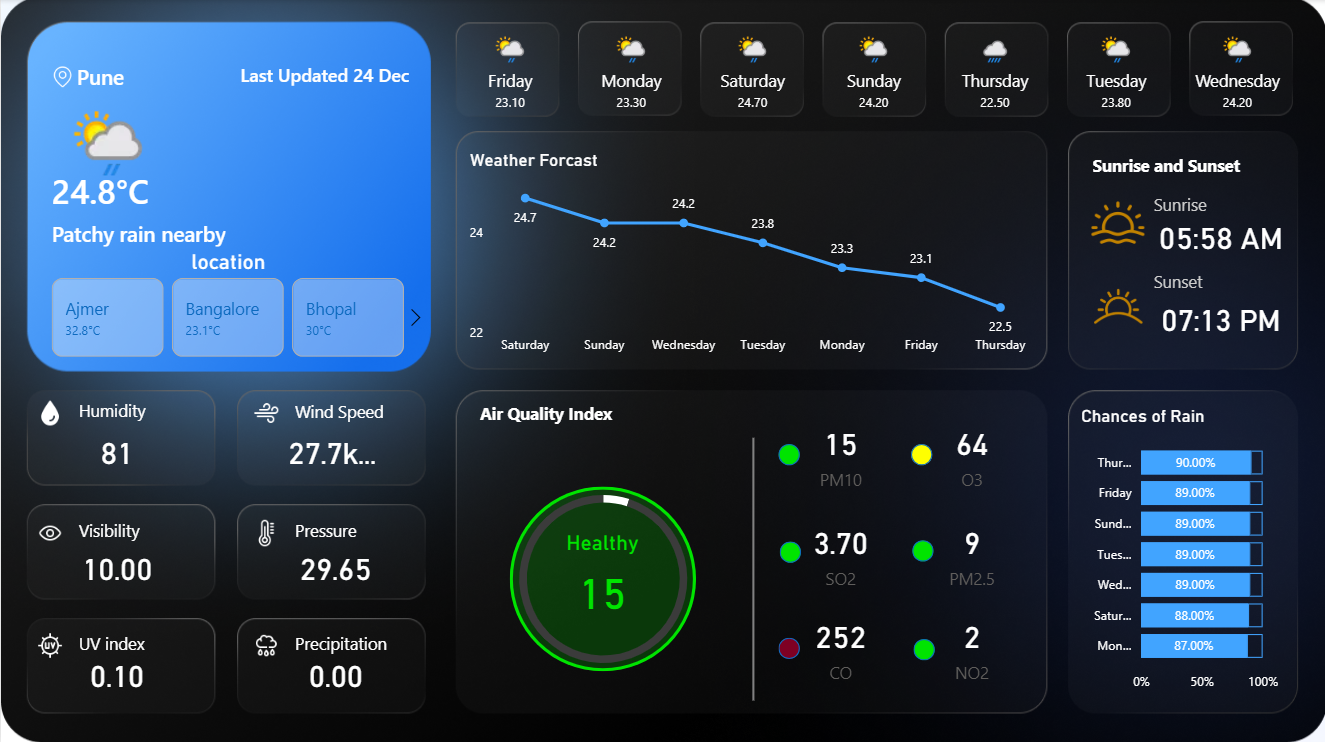

Layout of this report page (visuals, bound fields, positions):
{"tool":"powerbi","page":{"name":"Duplicate of Page 1","canvas":[1280,720],"ordinal":1},"visuals":[{"type":"shape","box":[491.3,470.7,179.8,178.4],"z":0},{"type":"donutChart","fields":{"Y":["Sum(Current.current.air_quality.pm10)","Measure.alert"]},"box":[472,454.2,219.6,212.7],"z":1000},{"type":"advancedSlicerVisual","title":"location","fields":{"Values":["location.location.name"],"Label":["Measure.curr_temp_c"]},"box":[24.7,241.5,391.1,109.8],"z":2000},{"type":"cardVisual","fields":{"Data":["Min(Current.current.condition.icon)"]},"box":[0,13.3,208.3,168.3],"z":3000},{"type":"cardVisual","fields":{"Data":["Measure.curr_temp_c"]},"box":[0,144.5,205.3,77.5],"z":4000},{"type":"cardVisual","fields":{"Data":["Min(Current.current.condition.text)"]},"box":[0,182.5,415.1,74.5],"z":5000},{"type":"cardVisual","fields":{"Data":["Min(Current.location.name)"]},"box":[24.3,30.4,214.4,74.5],"z":6000},{"type":"cardVisual","fields":{"Data":["Measure.date"]},"box":[181.7,30,265,75],"z":7000},{"type":"image","box":[50,57.9,20,35],"z":8000},{"type":"image","box":[35,381.7,25,36.7],"z":9000},{"type":"textbox","box":[70,381.7,85,39.2],"z":10000},{"type":"image","box":[35,497.5,25,36.7],"z":11000},{"type":"textbox","box":[70,497.5,85,39.2],"z":12000},{"type":"image","box":[35,605.8,25,36.7],"z":13000},{"type":"textbox","box":[70,605.8,85,39.2],"z":14000},{"type":"image","box":[244.2,381.7,25,36.7],"z":15000},{"type":"image","box":[244.2,497.5,25,36.7],"z":16000},{"type":"image","box":[244.2,605.8,25,36.7],"z":17000},{"type":"textbox","box":[278.3,382.5,117.5,39.2],"z":18000},{"type":"textbox","box":[278.3,497.5,85,39.2],"z":19000},{"type":"textbox","box":[278.3,605.8,117.5,39.2],"z":20000},{"type":"card","fields":{"Values":["Sum(Current.current.humidity)"]},"box":[77.5,411.7,70,51.7],"z":21000},{"type":"card","fields":{"Values":["Measure.wind"]},"box":[270.8,411.7,99.2,51.7],"z":22000},{"type":"card","fields":{"Values":["Sum(Current.current.pressure_in)"]},"box":[274.2,523.3,99.2,51.7],"z":23000},{"type":"card","fields":{"Values":["Sum(Current.current.vis_km)"]},"box":[62.5,523.3,99.2,51.7],"z":24000},{"type":"card","fields":{"Values":["Sum(Current.current.uv)"]},"box":[62.5,625.8,99.2,51.7],"z":25000},{"type":"card","fields":{"Values":["Sum(Current.current.precip_in)"]},"box":[274.2,625.8,99.2,51.7],"z":26000},{"type":"advancedSlicerVisual","fields":{"Values":["Forcast_Day.Day_Formated"]},"box":[431.4,25.7,827.1,100],"z":27000},{"type":"lineChart","title":"Weather Forcast","fields":{"Category":["Forcast_Day.Day_Formated"],"Y":["Measure.avgtem"]},"box":[447.1,144.3,552.9,207.1],"z":28000},{"type":"textbox","box":[1048.6,144.3,210,37.1],"z":29000},{"type":"textbox","box":[1107.4,182.5,118,39.8],"z":30000},{"type":"card","fields":{"Values":["Min(Forcast_Day.sunrise_date)"]},"box":[1107.4,204.5,140,52.1],"z":31000},{"type":"card","fields":{"Values":["Min(Forcast_Day.sunset_date)"]},"box":[1107.4,282.7,140,52.1],"z":32000},{"type":"textbox","box":[1107.4,256.6,118,39.8],"z":33000},{"type":"hundredPercentStackedBarChart","title":"Chances of Rain","fields":{"Category":["Forcast_Day.Day_Formated"],"Y":["Sum(Forcast_Day.forecast.forecastday.day.daily_chance_of_rain)","Measure.left_value_rain"]},"box":[1037.4,392.5,200.3,285.4],"z":34000},{"type":"card","fields":{"Values":["Sum(Current.current.air_quality.o3)"]},"box":[887.8,402.1,98.8,75.5],"z":35000},{"type":"card","fields":{"Values":["Sum(Current.current.air_quality.pm2_5)"]},"box":[887.8,496.7,98.8,75.5],"z":36000},{"type":"card","fields":{"Values":["Sum(Current.current.air_quality.no2)"]},"box":[887.8,587.3,98.8,75.5],"z":37000},{"type":"card","fields":{"Values":["Sum(Current.current.air_quality.pm10)"]},"box":[761.6,402.1,98.8,75.5],"z":38000},{"type":"card","fields":{"Values":["Sum(Current.current.air_quality.so2)"]},"box":[761.6,496.7,98.8,75.5],"z":39000},{"type":"card","fields":{"Values":["Sum(Current.current.air_quality.co)"]},"box":[761.6,587.3,98.8,75.5],"z":40000},{"type":"textbox","box":[456.9,384.2,209.9,38.4],"z":41000},{"type":"shape","box":[750.6,429.5,20.6,20.6],"z":42000},{"type":"shape","box":[752,524.2,20.6,20.6],"z":43000},{"type":"shape","box":[750.6,616.1,20.6,20.6],"z":44000},{"type":"shape","box":[878.2,429.5,20.6,20.6],"z":45000},{"type":"shape","box":[879.6,522.8,20.6,20.6],"z":46000},{"type":"shape","box":[881,617.5,20.6,20.6],"z":47000},{"type":"shape","box":[666.9,424,118,253.9],"z":48000},{"type":"card","fields":{"Values":["Sum(Current.current.air_quality.pm10)"]},"box":[522.8,513.2,116.6,91.9],"z":49000},{"type":"image","box":[1048.4,190.6,59.1,50.7],"z":50000},{"type":"image","box":[1044.8,265.4,67.6,62.7],"z":51000}]}

Visuals, with their boxes in screenshot pixels (x1, y1, x2, y2), scaled from the page's 1280x720 canvas onto the 1325x742 screenshot:
shape: (509,485,695,669)
donutChart - Sum(Current.current.air_quality.pm10) x Measure.alert: (489,468,716,687)
"location" advancedSlicerVisual: (26,249,430,362)
cardVisual - Min(Current.current.condition.icon): (0,14,216,187)
cardVisual - Measure.curr_temp_c: (0,149,213,229)
cardVisual - Min(Current.current.condition.text): (0,188,430,265)
cardVisual - Min(Current.location.name): (25,31,247,108)
cardVisual - Measure.date: (188,31,462,108)
image: (52,60,72,96)
image: (36,393,62,431)
textbox: (72,393,160,434)
image: (36,513,62,551)
textbox: (72,513,160,553)
image: (36,624,62,662)
textbox: (72,624,160,665)
image: (253,393,279,431)
image: (253,513,279,551)
image: (253,624,279,662)
textbox: (288,394,410,435)
textbox: (288,513,376,553)
textbox: (288,624,410,665)
card - Sum(Current.current.humidity): (80,424,153,478)
card - Measure.wind: (280,424,383,478)
card - Sum(Current.current.pressure_in): (284,539,387,593)
card - Sum(Current.current.vis_km): (65,539,167,593)
card - Sum(Current.current.uv): (65,645,167,698)
card - Sum(Current.current.precip_in): (284,645,387,698)
advancedSlicerVisual - Forcast_Day.Day_Formated: (447,26,1303,130)
"Weather Forcast" lineChart: (463,149,1035,362)
textbox: (1085,149,1303,187)
textbox: (1146,188,1268,229)
card - Min(Forcast_Day.sunrise_date): (1146,211,1291,264)
card - Min(Forcast_Day.sunset_date): (1146,291,1291,345)
textbox: (1146,264,1268,305)
"Chances of Rain" hundredPercentStackedBarChart: (1074,404,1281,699)
card - Sum(Current.current.air_quality.o3): (919,414,1021,492)
card - Sum(Current.current.air_quality.pm2_5): (919,512,1021,590)
card - Sum(Current.current.air_quality.no2): (919,605,1021,683)
card - Sum(Current.current.air_quality.pm10): (788,414,891,492)
card - Sum(Current.current.air_quality.so2): (788,512,891,590)
card - Sum(Current.current.air_quality.co): (788,605,891,683)
textbox: (473,396,690,436)
shape: (777,443,798,464)
shape: (778,540,800,561)
shape: (777,635,798,656)
shape: (909,443,930,464)
shape: (911,539,932,560)
shape: (912,636,933,658)
shape: (690,437,812,699)
card - Sum(Current.current.air_quality.pm10): (541,529,662,624)
image: (1085,196,1146,249)
image: (1082,274,1152,338)
